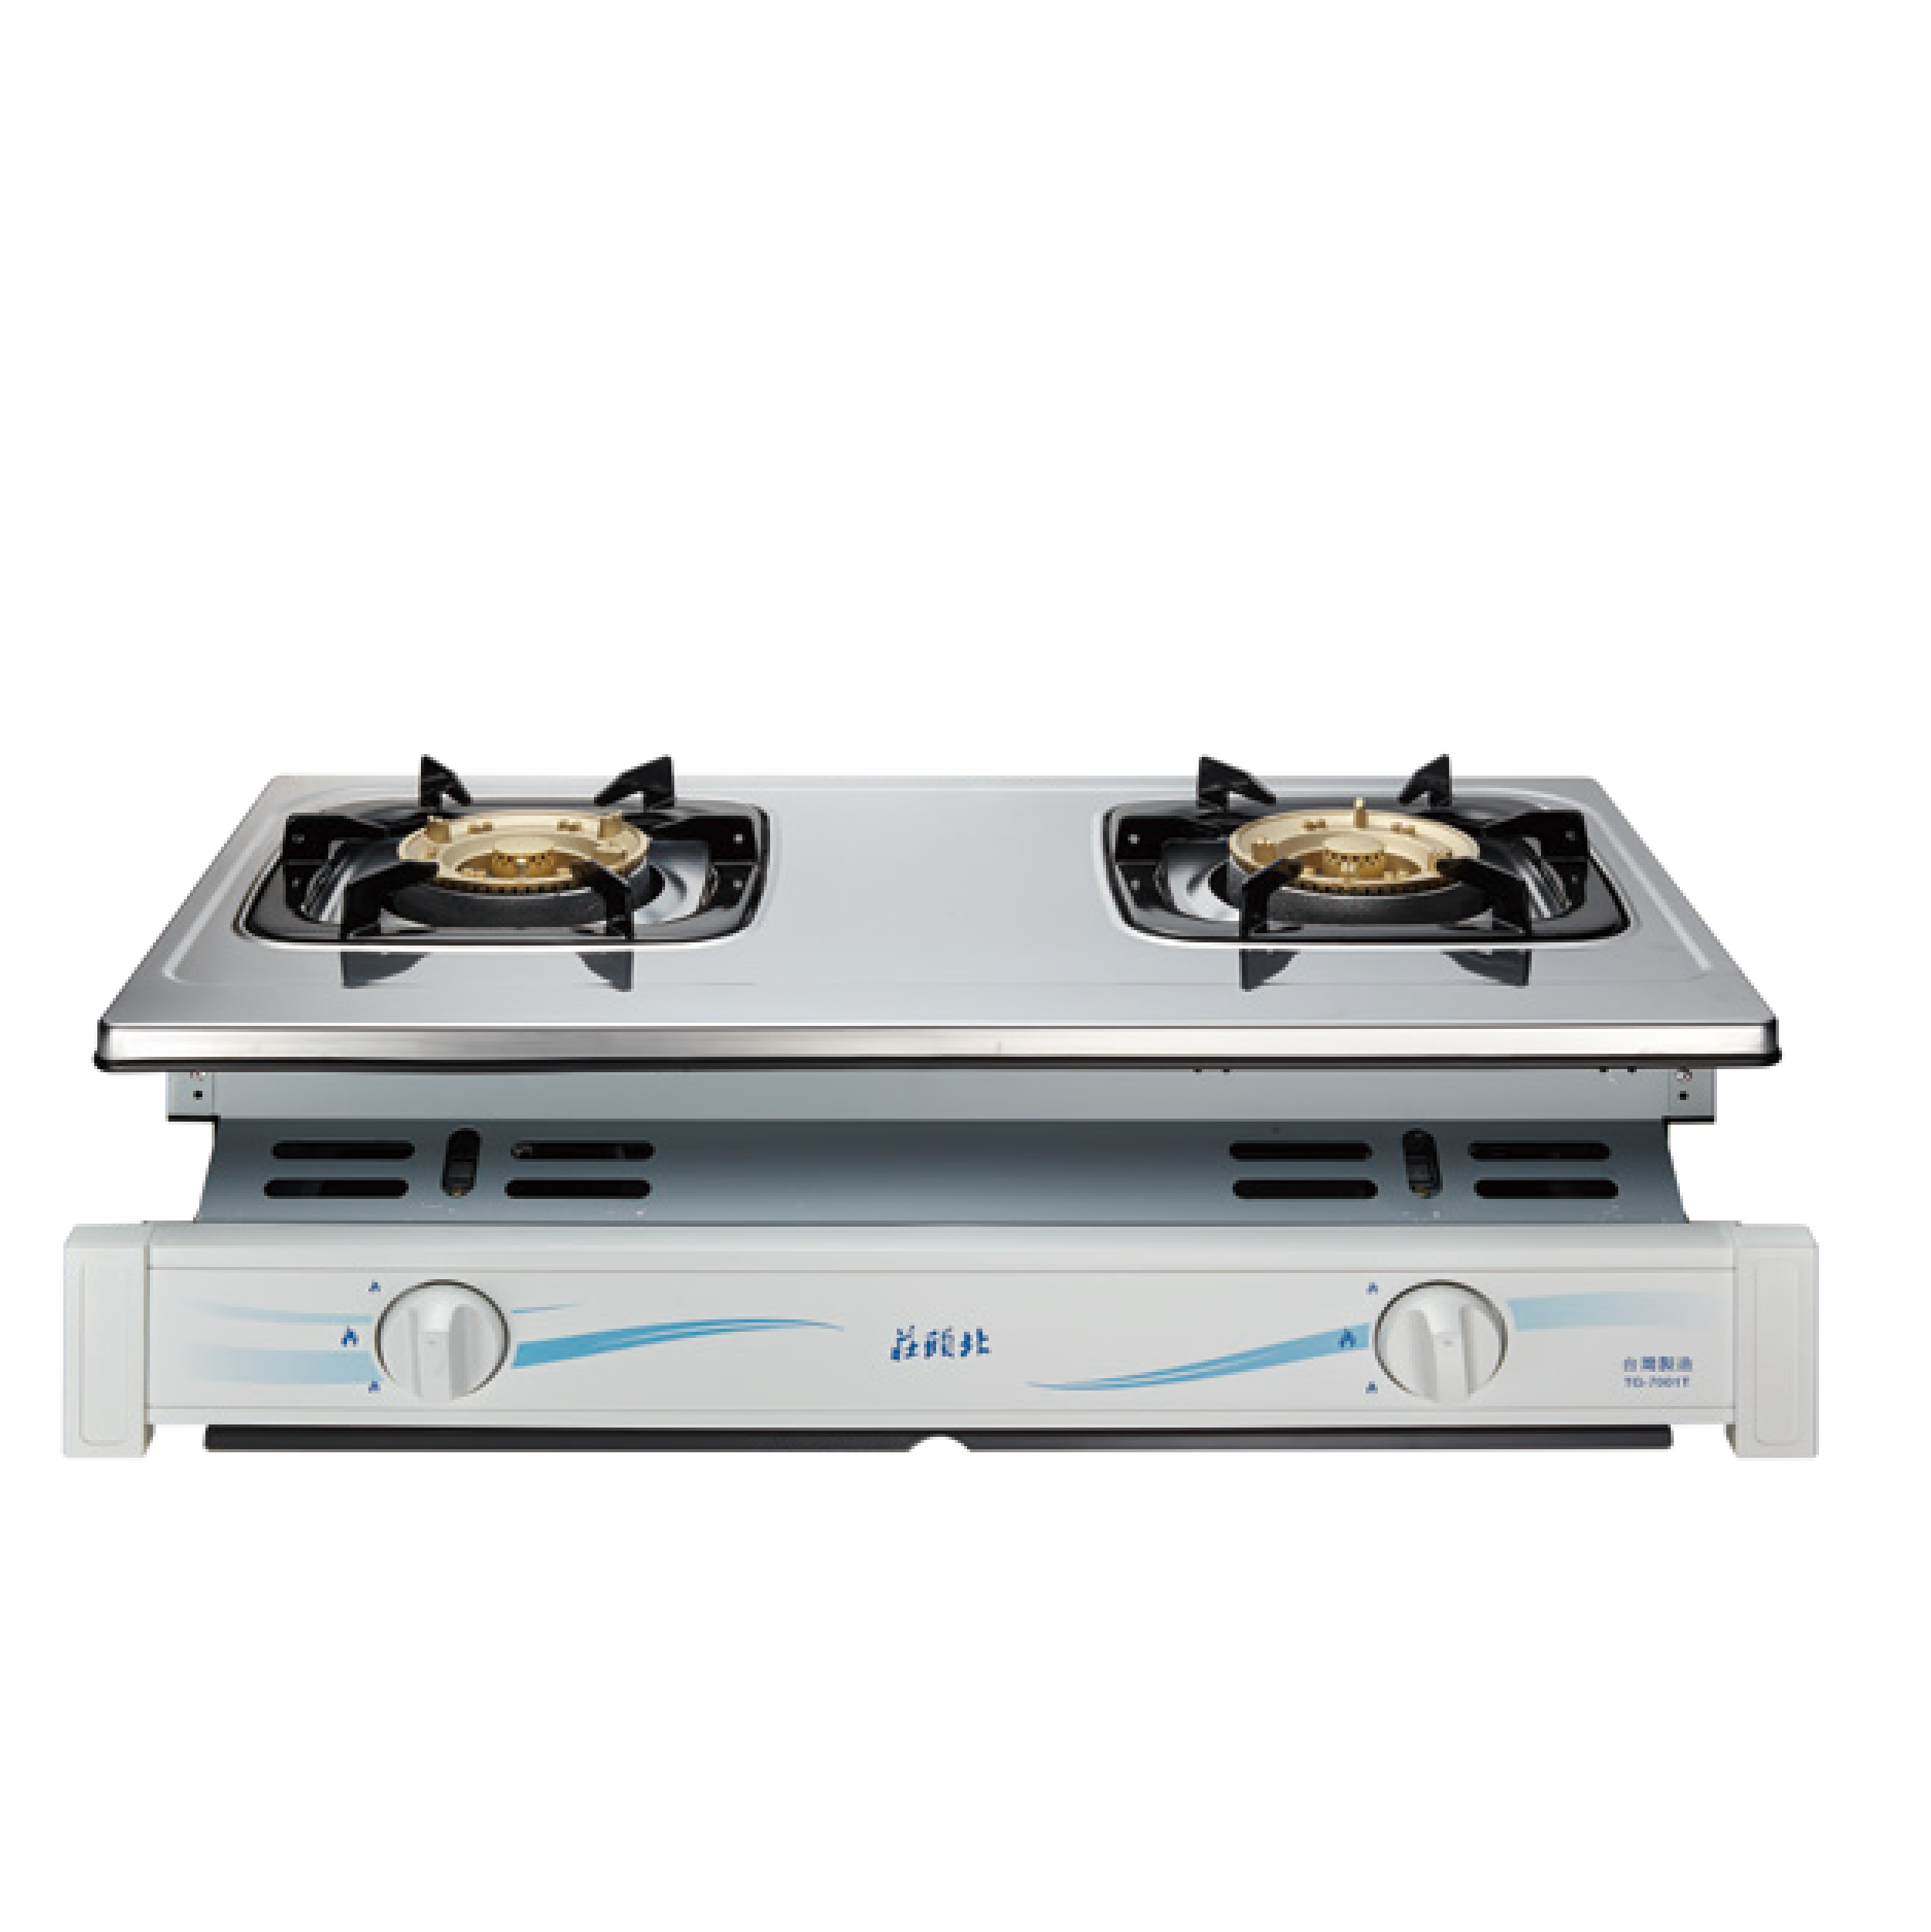gasoven: (53, 736, 1848, 1479)
